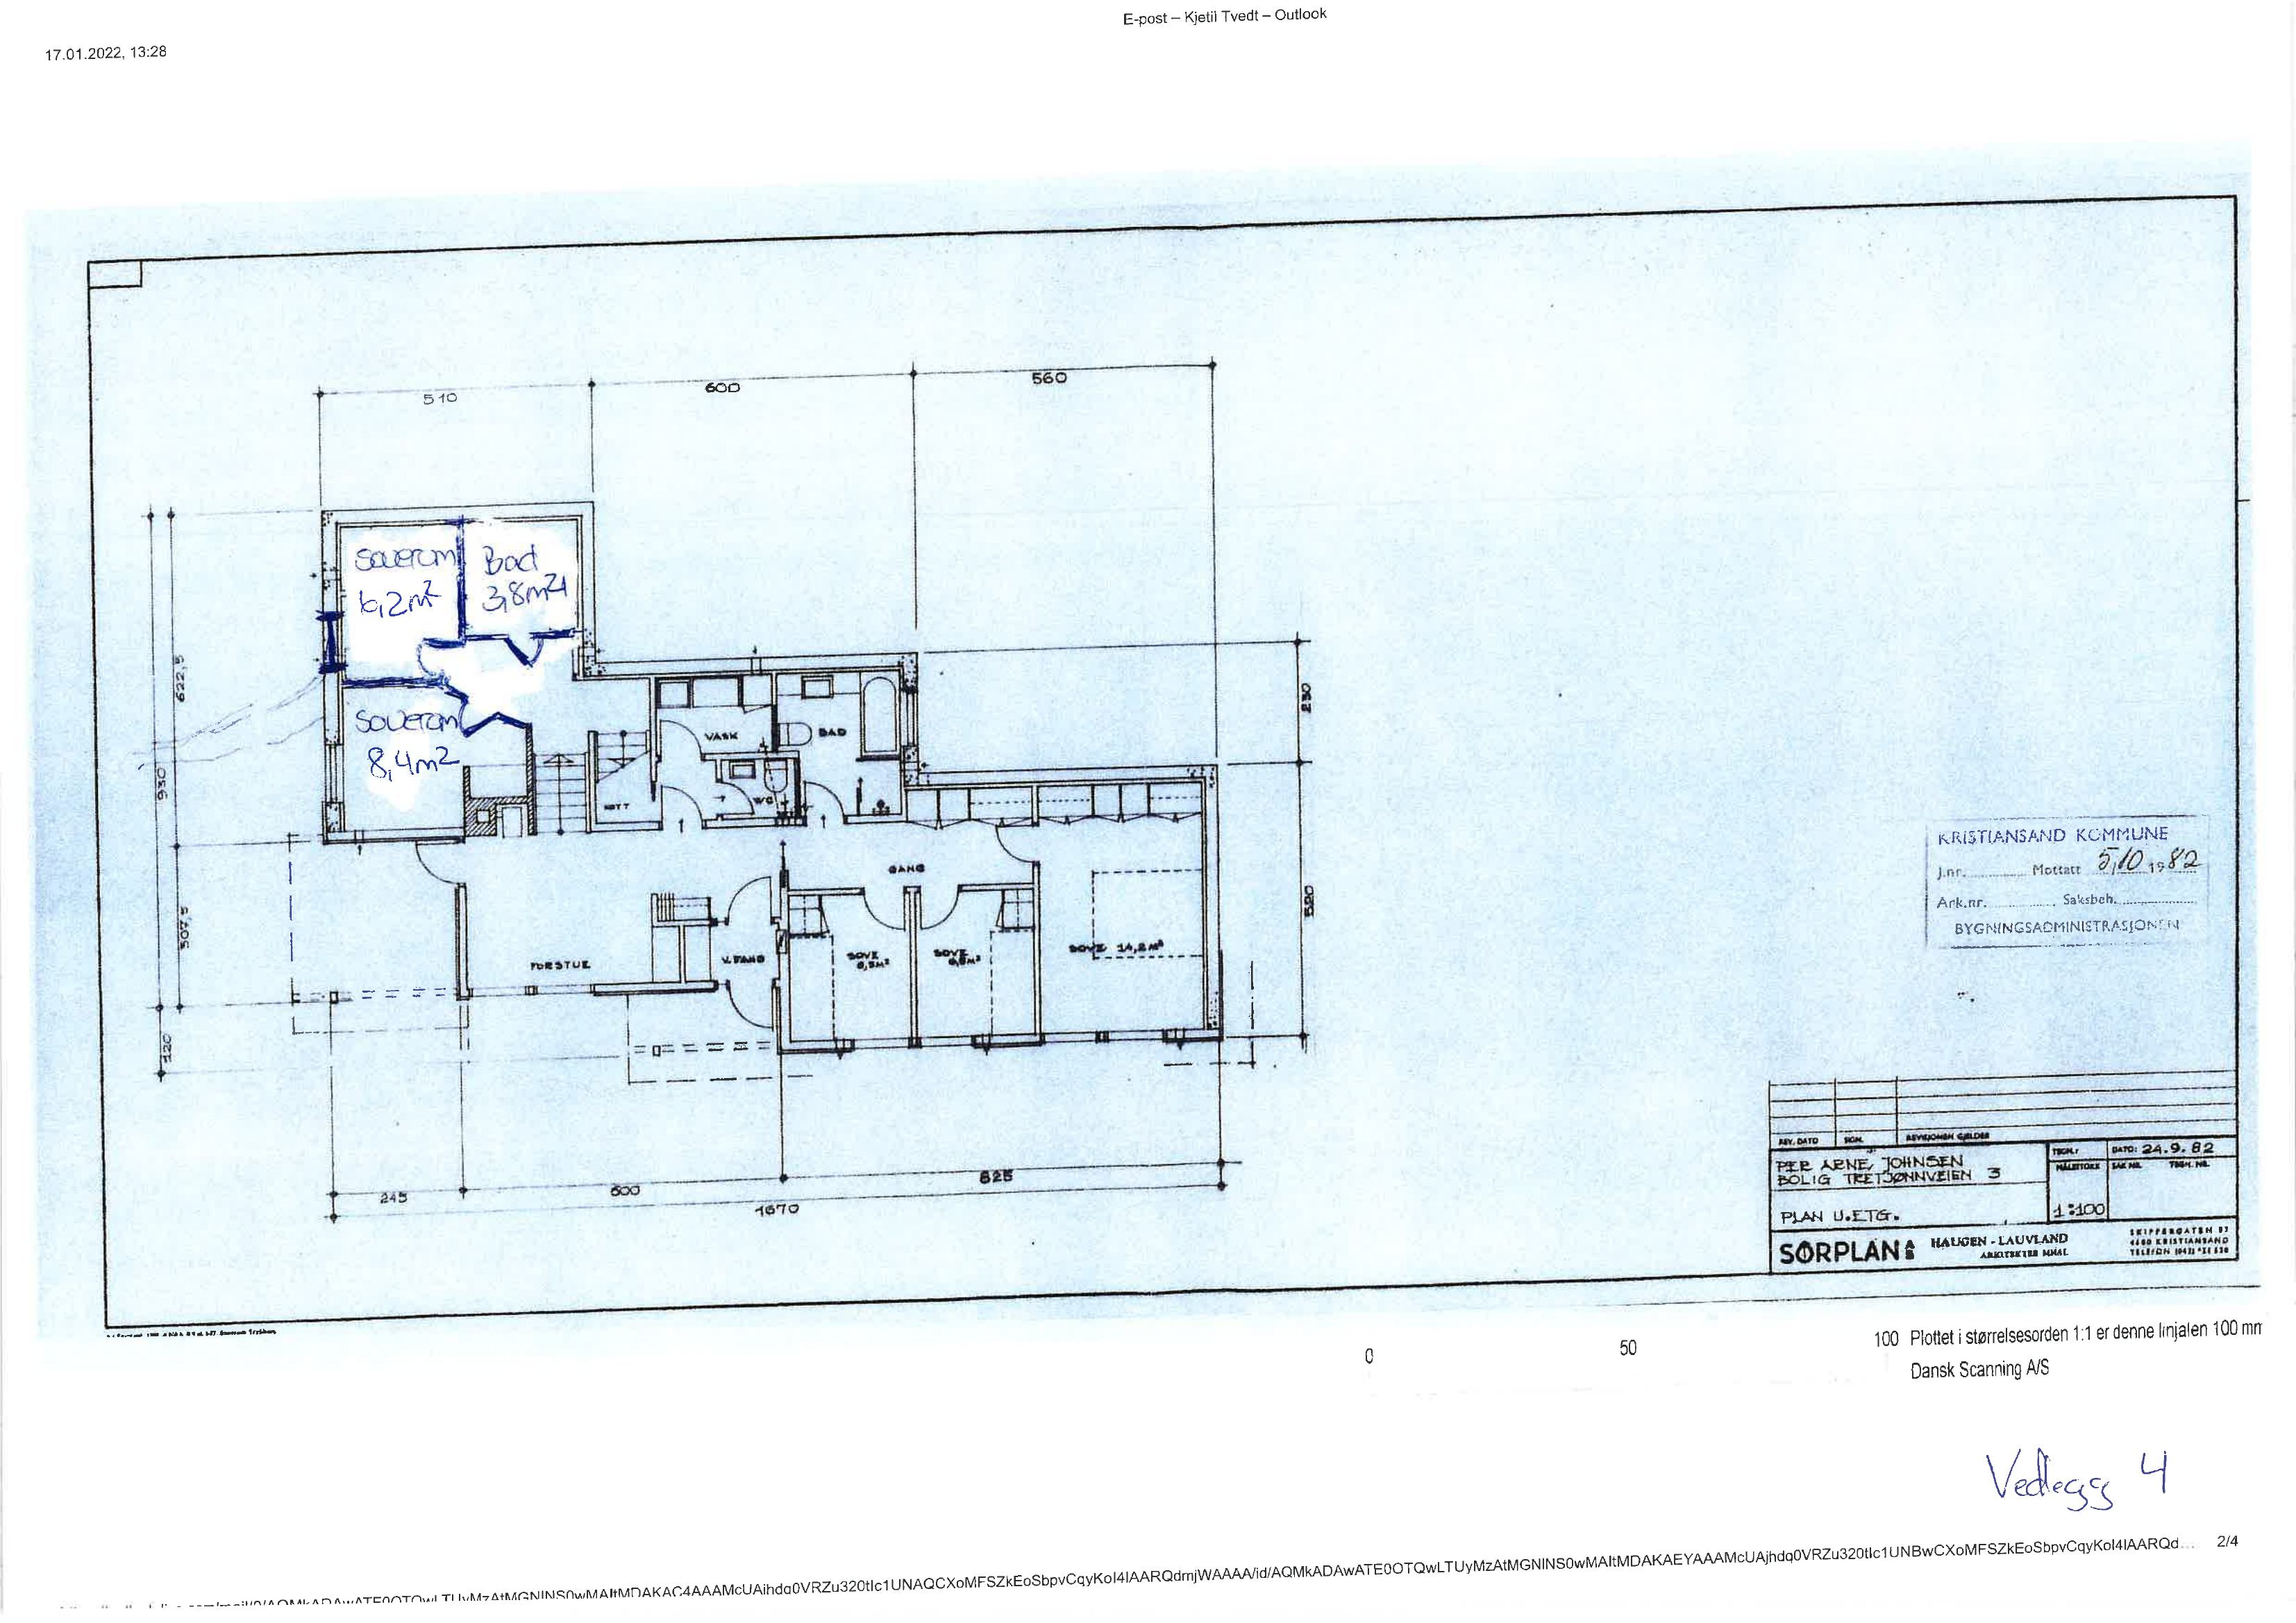plantegning: (116, 321, 1342, 1226)
